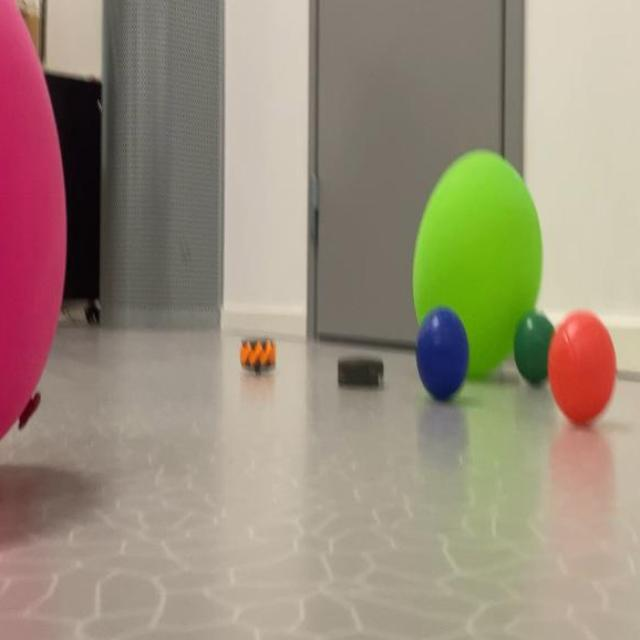blue ball: (552, 323, 619, 429), (414, 323, 472, 406)
green ball: (519, 329, 544, 372)
